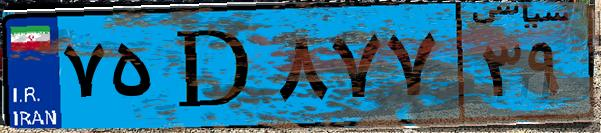3: (475, 38, 525, 113)
5: (110, 28, 158, 98)
7: (385, 28, 445, 110), (330, 28, 385, 110), (57, 26, 110, 100)
8: (270, 28, 330, 110)
9: (525, 38, 570, 115)
D: (158, 12, 270, 120)
